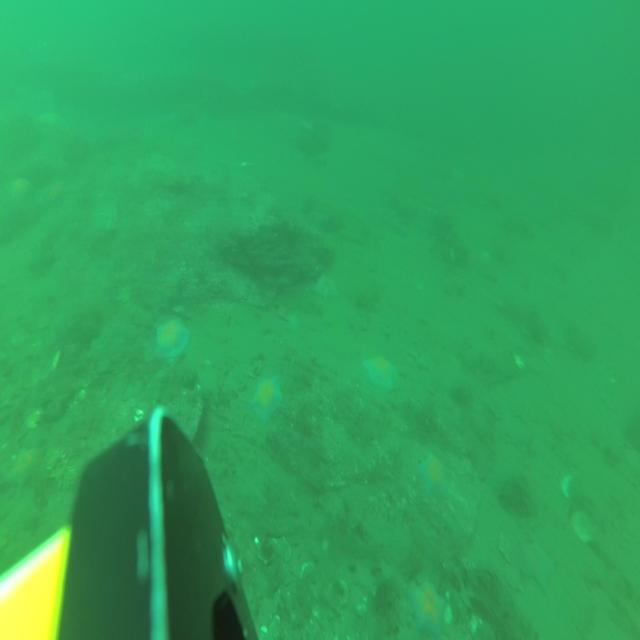holothurian: (48, 448, 76, 488)
scallop: (572, 506, 595, 546)
starfish: (408, 582, 446, 637), (519, 539, 555, 594), (7, 444, 44, 489), (252, 374, 284, 426), (154, 319, 190, 364), (420, 450, 450, 498), (366, 353, 397, 392), (10, 177, 32, 210), (45, 179, 66, 209)
